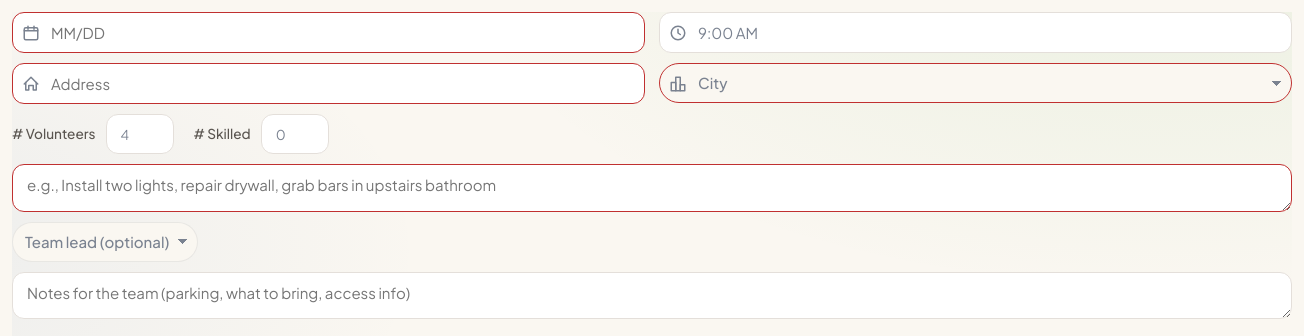
Test: TaskEntryForm › auto-inserts '/' once a third digit is typed into MM/DD
This screenshot has width=1304, height=336.
In the field with placeholder "MM/DD": (328, 32) [12, 12, 645, 53], type "05"
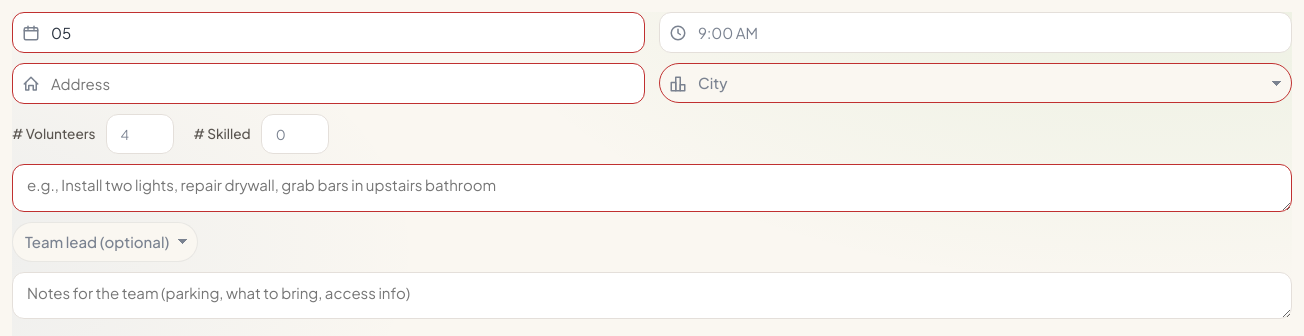
Replace the text in the field with placeholder "MM/DD" with "051": (328, 32) [12, 12, 645, 53]
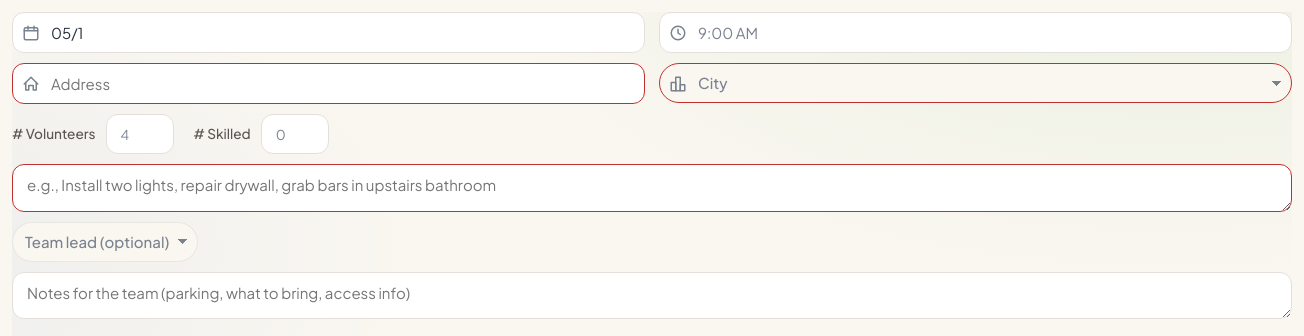
Expected: the field with placeholder "MM/DD" holds "05/1", [12, 12, 645, 53]
